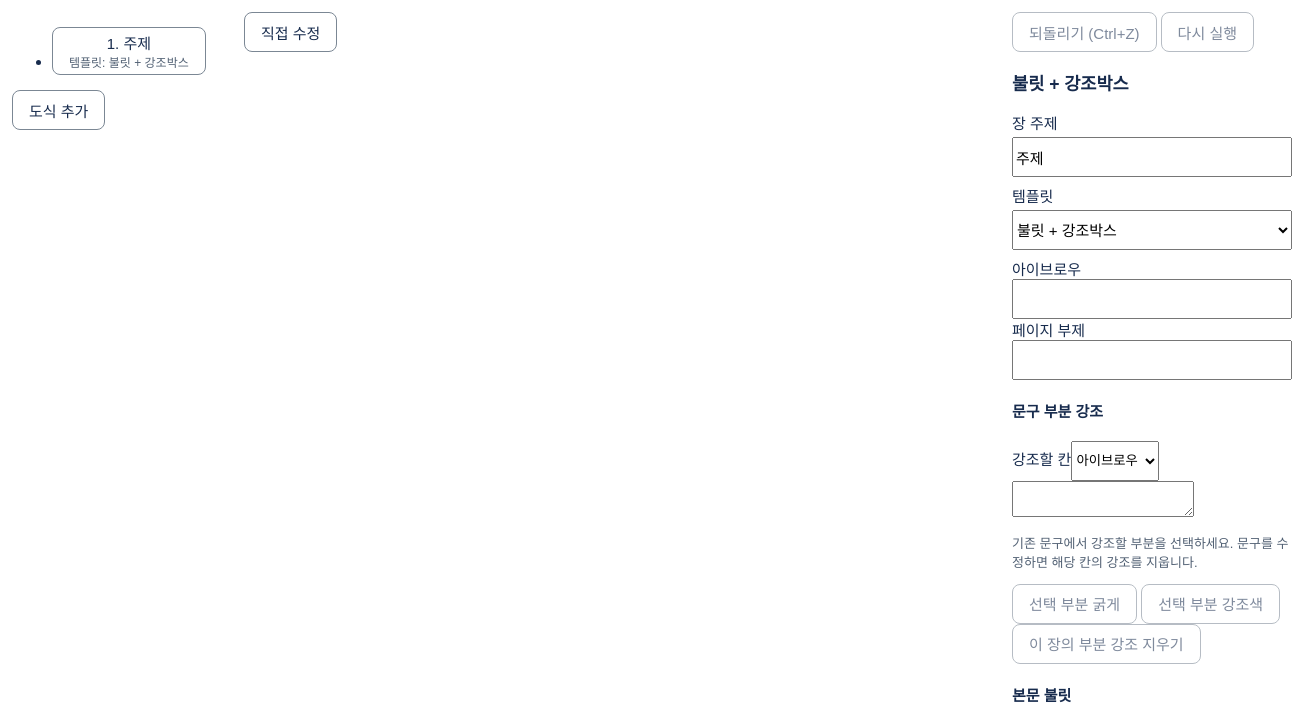
Scenario: 기준이 지금 덱과 다른 저장된 도식 반영은 충돌로 보낸다
Click the button "도식 추가" at (59, 110), box top-left (12, 90), bottom-right (105, 130)
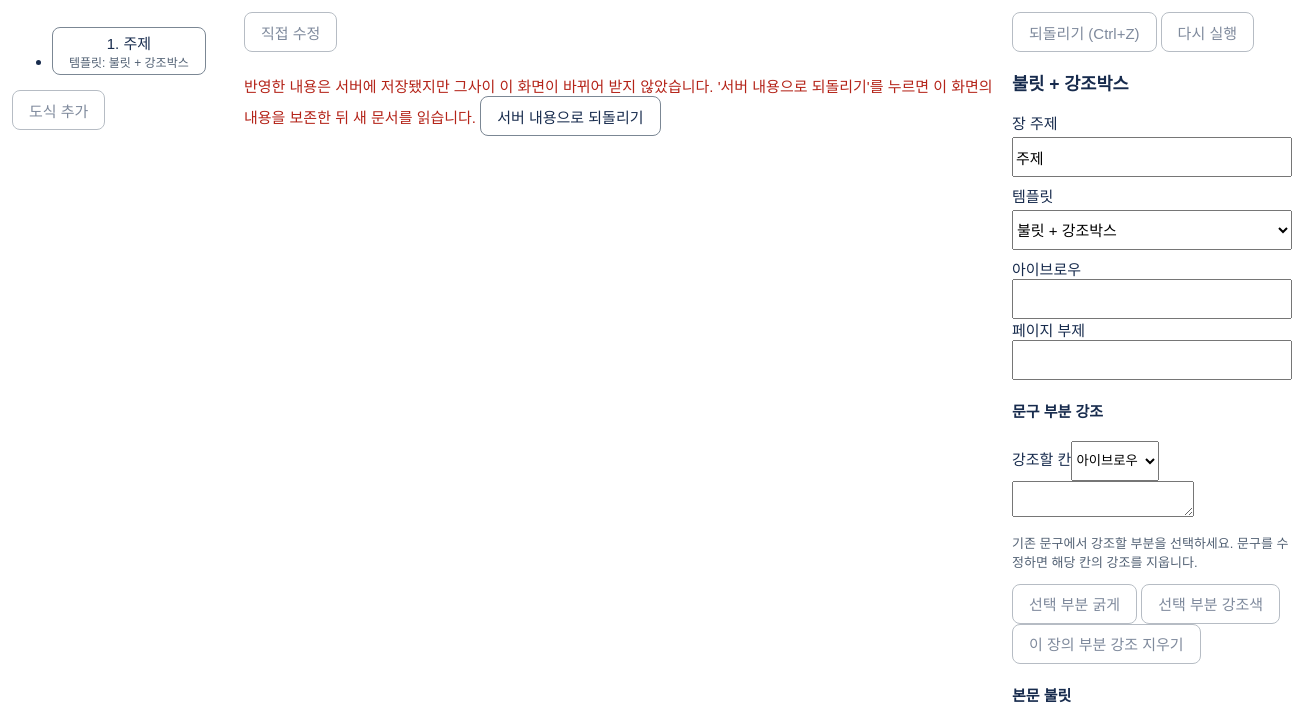
Now the text "반영한 내용은 서버에 저장됐지만 그사이 이 화면이 바뀌어 받지 않았습니다" is shown, box top-left (244, 78), bottom-right (993, 126)
